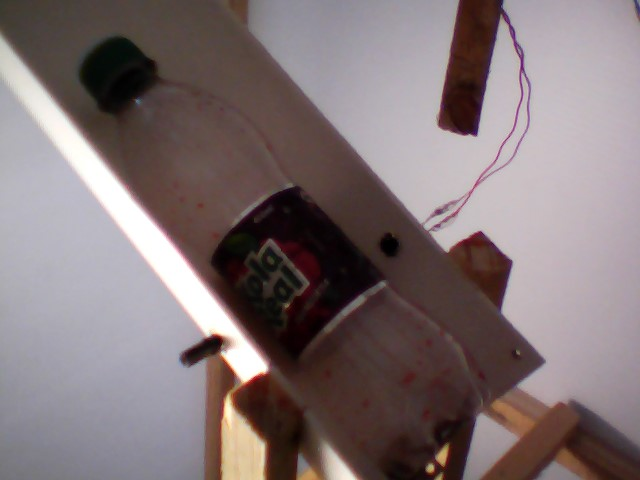plastico: (75, 24, 503, 480)
